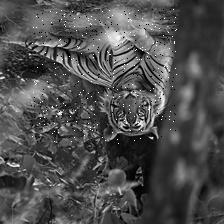tiger: (31, 9, 177, 144)
